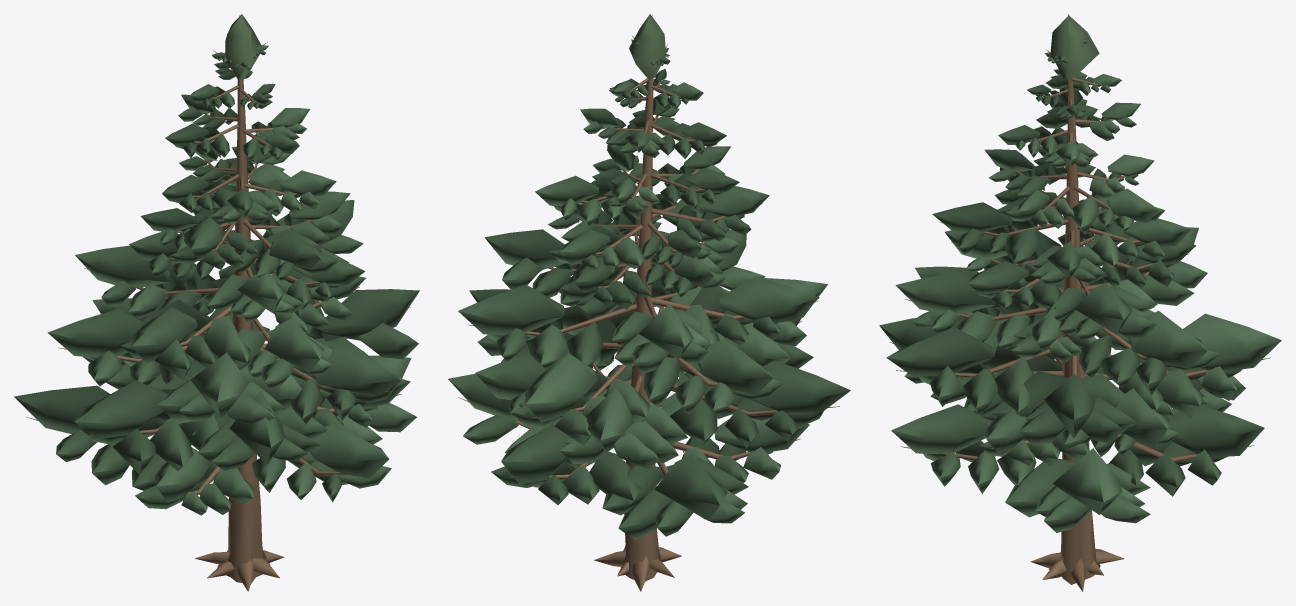
File: pino-abierto.glb
3 renders of one model, left to right at view 1: azimuth 30°, elevation 25°; view 2: azimuth 150°, elevation 25°; view 3: azimuth 270°, elevation 25°, orthographic.
Parts seen in each view (by area): view 1: pino-abierto; view 2: pino-abierto; view 3: pino-abierto.
Part boxes in pixels (box(x1,y1,x2,y2)): pino-abierto: box(14, 14, 419, 591); pino-abierto: box(448, 14, 850, 591); pino-abierto: box(879, 14, 1281, 591).
Bounding box in the file's own units: 0.6931 × 1 × 0.6573.
